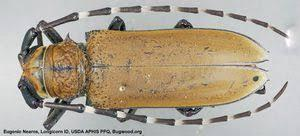insect: (15, 0, 293, 131)
